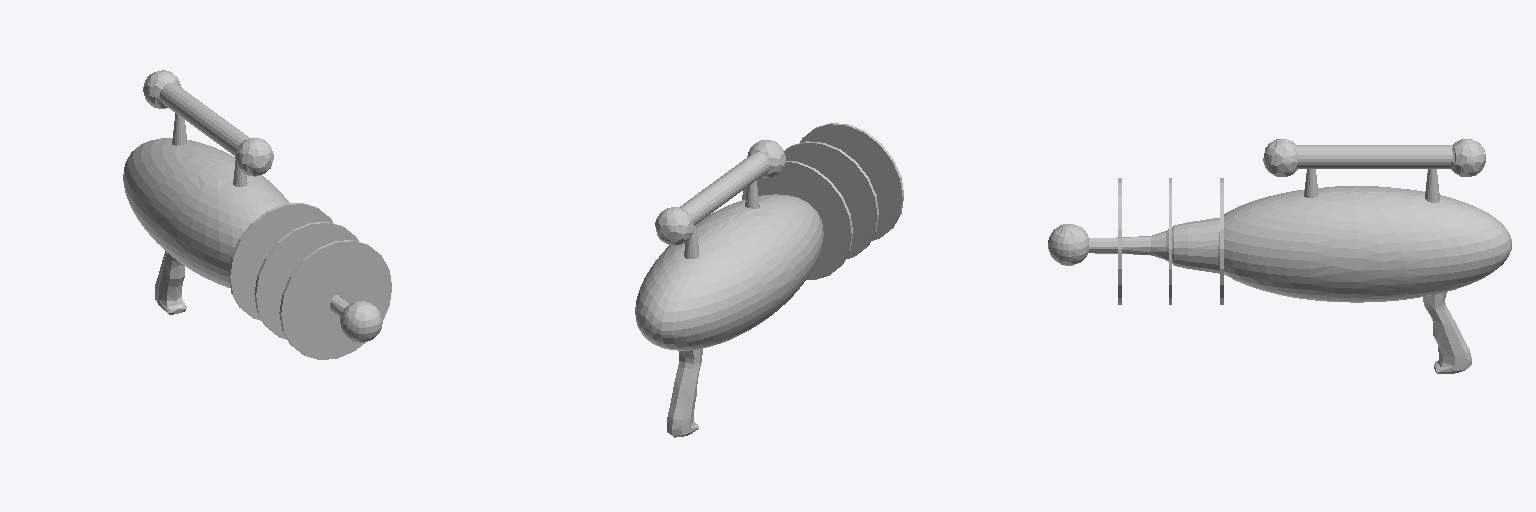
File: gun.obj
3 renders of one model, left to right at view 1: azimuth 30°, elevation 25°; view 2: azimuth 150°, elevation 25°; view 3: azimuth 270°, elevation 25°, orthographic.
Visible parts, largest first — view 1: pSphere7; view 2: pSphere7; view 3: pSphere7.
Part boxes in pixels (bbox=[...]): pSphere7: bbox=[123, 70, 391, 359]; pSphere7: bbox=[635, 123, 903, 437]; pSphere7: bbox=[1048, 139, 1511, 373].
Size of the model in its own units: 2 by 3.98 by 7.23.